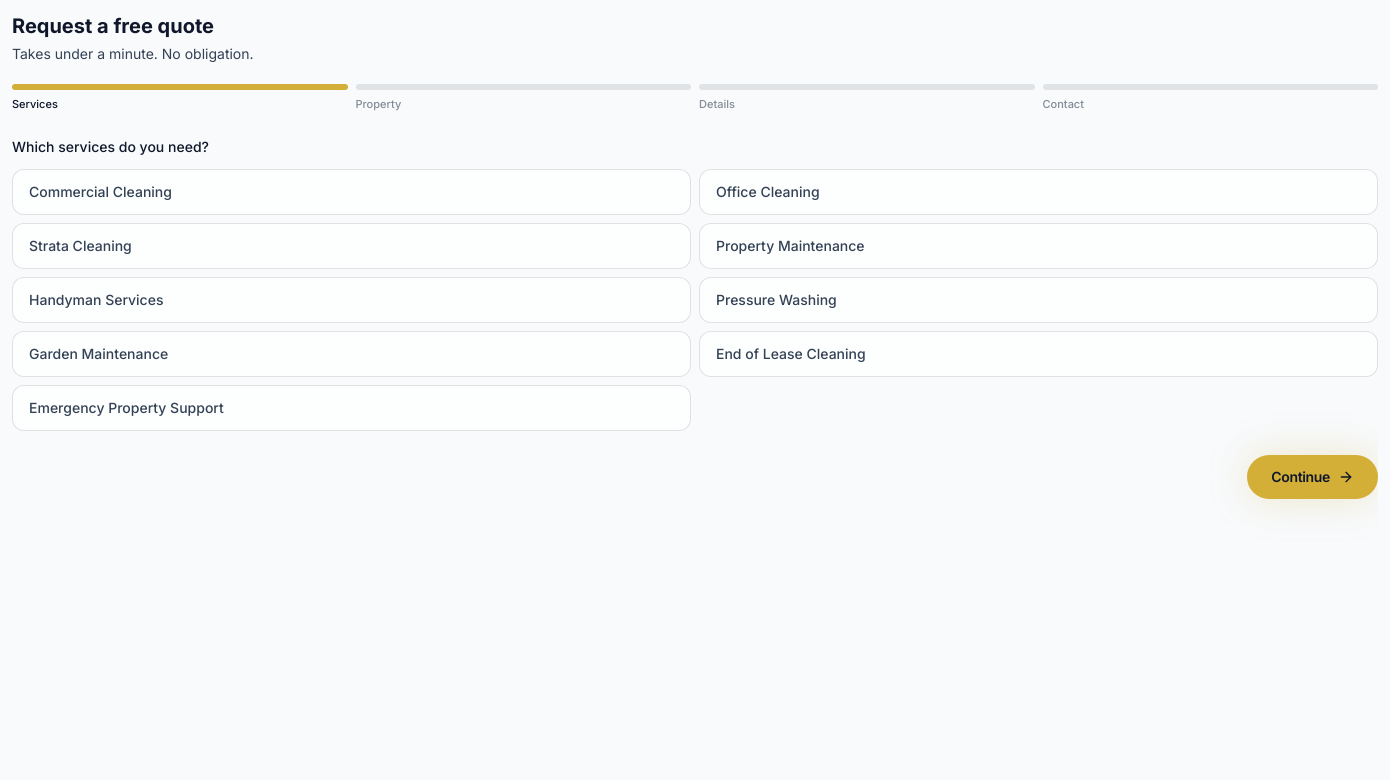
QuoteForm › does not advance past step 1 until a service is selected
Click the button "Continue" at coordinates (1313, 476), box [1247,454,1378,498]
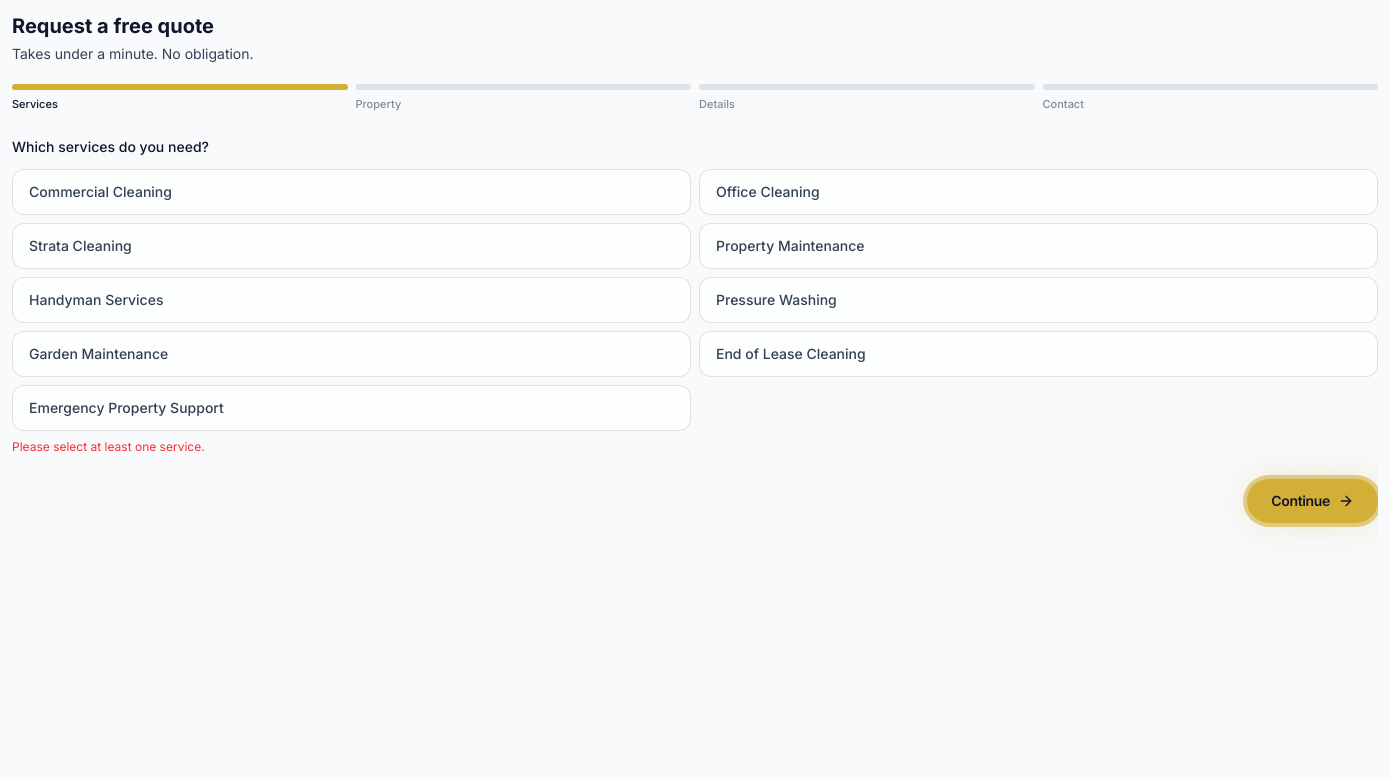
expect the text "Please select at least one service." is shown: met, box [12,438,205,454]
